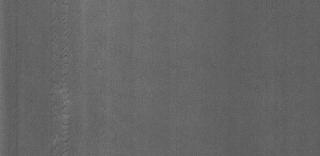silk spot: (46, 9, 76, 148)
